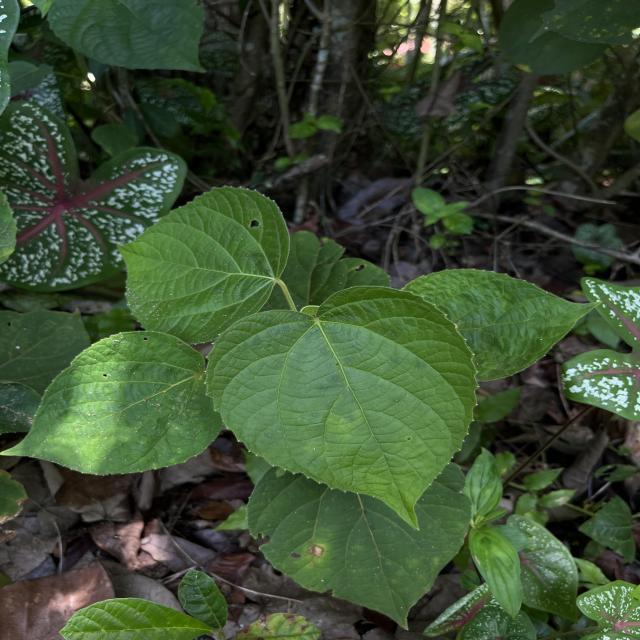Clerodendrum infortunatum: (202, 283, 480, 533), (244, 463, 475, 633), (0, 329, 223, 477), (116, 184, 292, 345), (402, 266, 604, 384)
